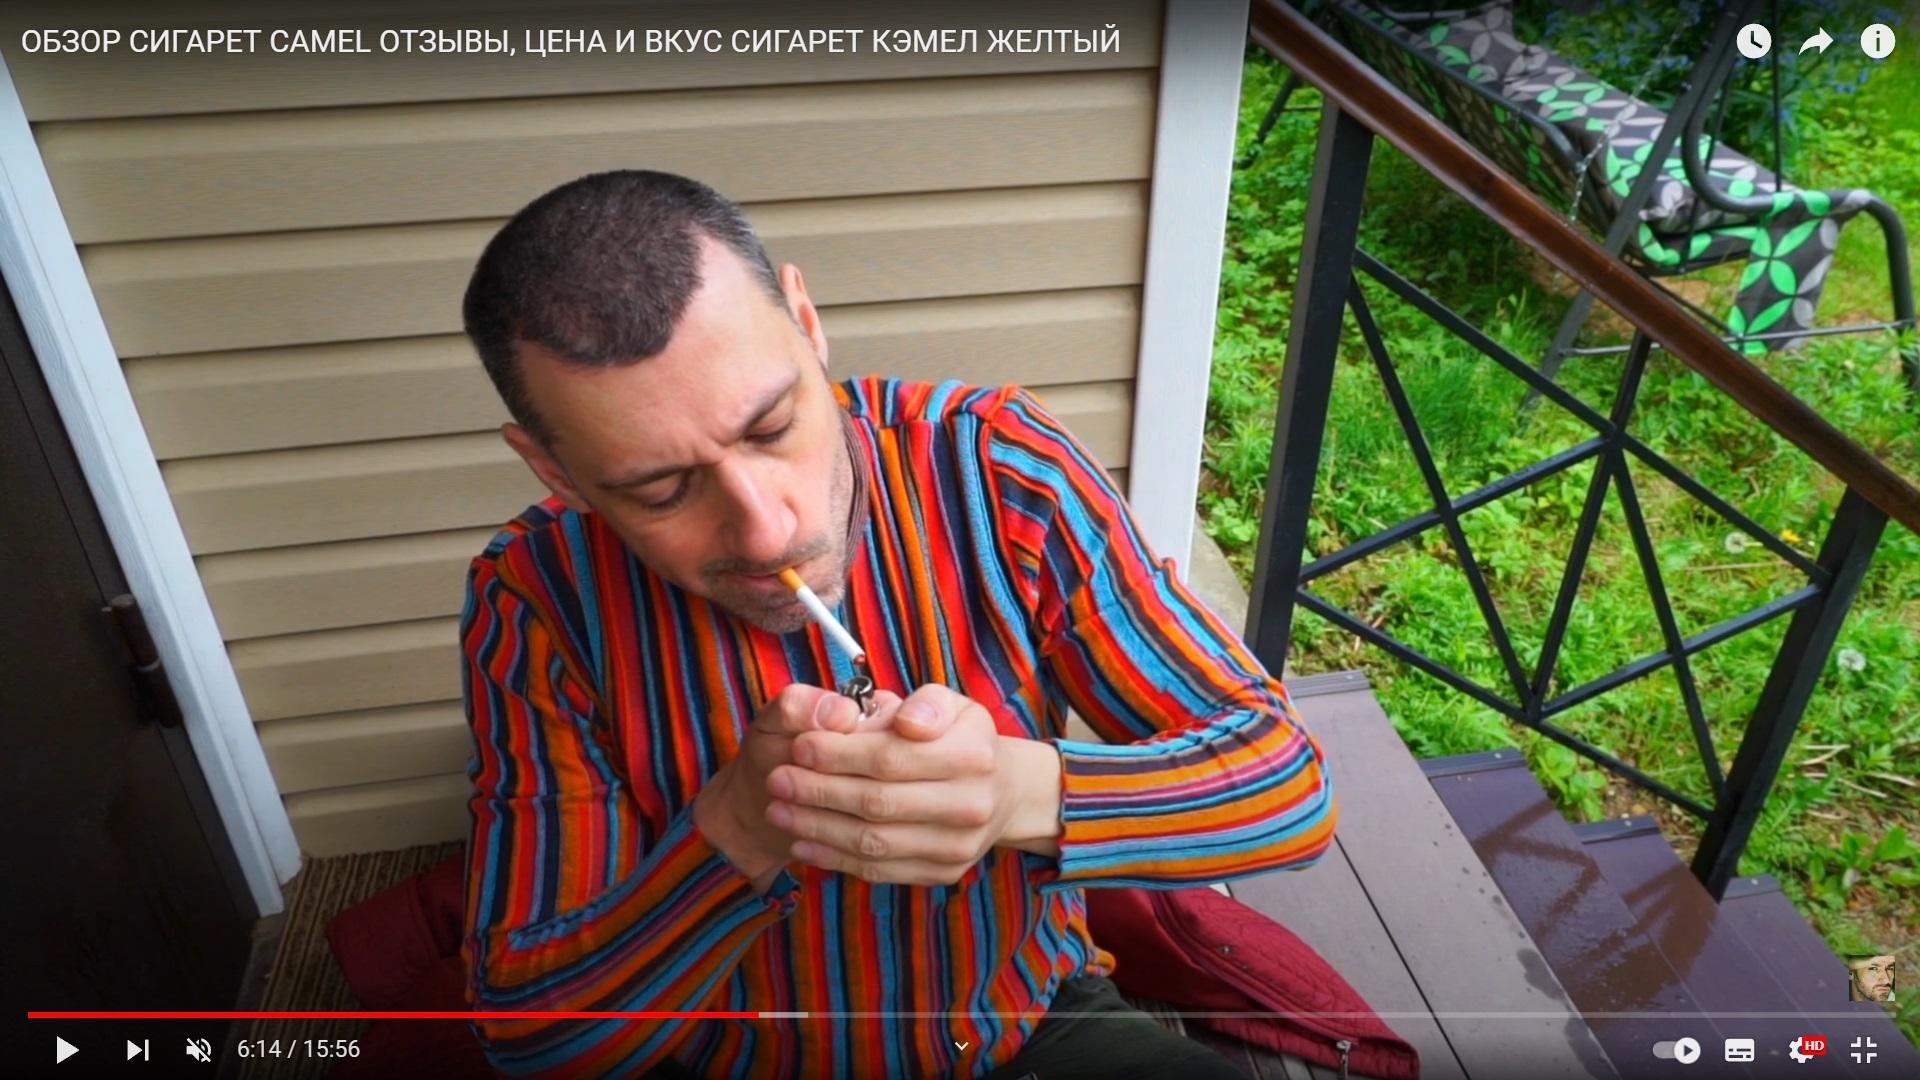cigarette: (774, 567, 868, 666)
